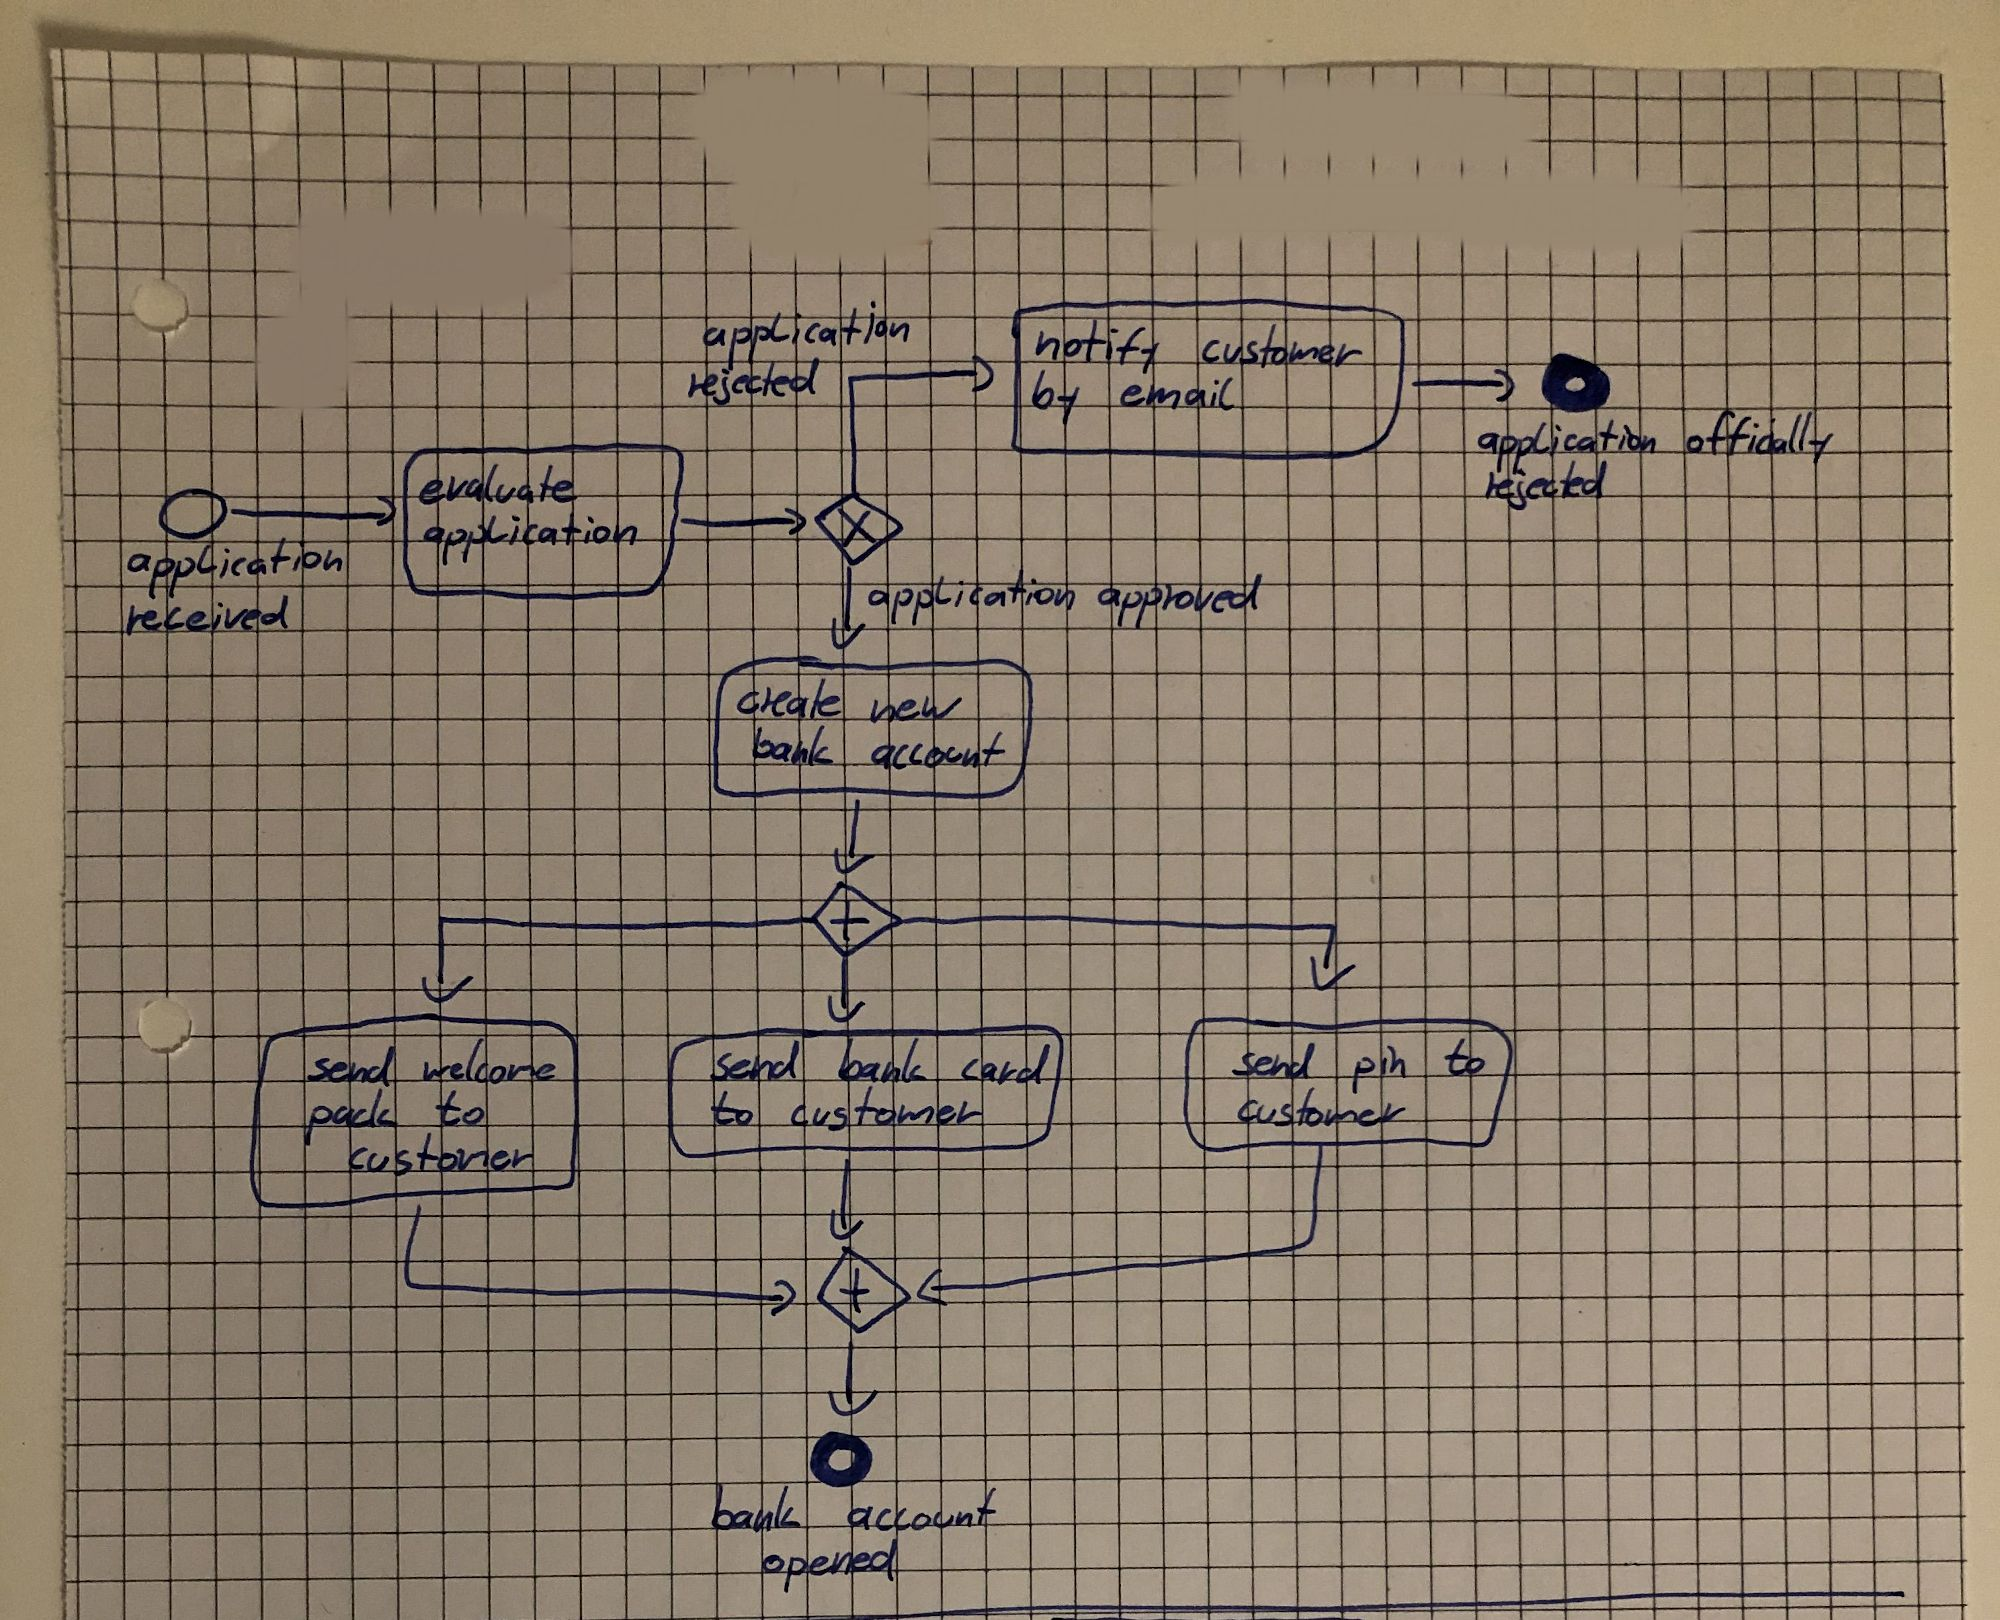account: (841, 1484, 1010, 1537), (864, 731, 1012, 775)
application: (696, 293, 914, 355), (417, 507, 645, 567), (119, 541, 354, 597), (861, 569, 1088, 623), (1463, 418, 1669, 473)
approved: (1093, 570, 1268, 627)
bank: (698, 1479, 821, 1539), (825, 1035, 949, 1089), (740, 726, 856, 774)
by: (1025, 365, 1111, 430)
card: (950, 1038, 1063, 1094)
create: (726, 676, 858, 727)
customer: (777, 1081, 987, 1137), (1233, 1081, 1421, 1141), (337, 1132, 536, 1180), (1193, 321, 1375, 372)
email: (1117, 370, 1245, 418)
evaluate: (413, 461, 582, 511)
new: (864, 683, 969, 731)
notify: (1020, 314, 1179, 379)
officially: (1683, 407, 1845, 471)
opened: (755, 1536, 912, 1594)
pack: (296, 1088, 413, 1149)
pin: (1340, 1025, 1417, 1098)
received: (121, 592, 301, 640)
rejected: (681, 355, 831, 407), (1479, 461, 1617, 514)
send: (707, 1041, 821, 1091), (301, 1041, 412, 1089), (1228, 1040, 1331, 1089)
to: (702, 1086, 764, 1137), (1435, 1033, 1493, 1086), (431, 1089, 493, 1134)
welcome: (418, 1036, 560, 1093)
